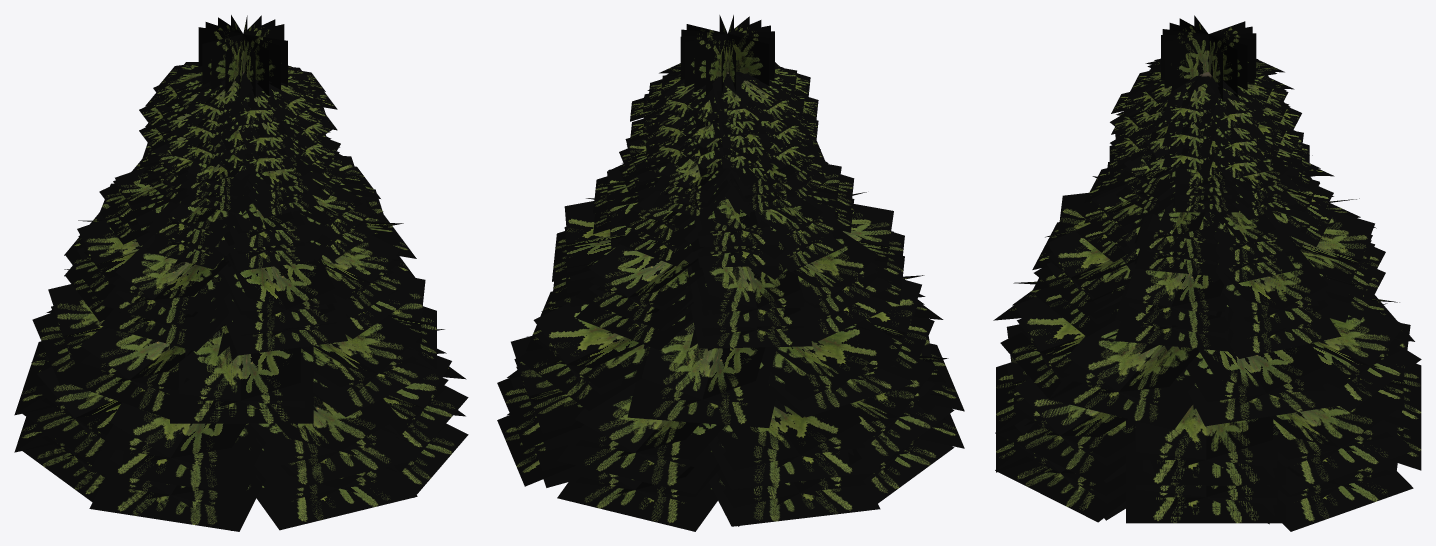
Rendered from pine_1.obj.
3 renders of one model, left to right at view 1: azimuth 30°, elevation 25°; view 2: azimuth 150°, elevation 25°; view 3: azimuth 270°, elevation 25°, orthographic.
Visible parts, largest first — view 1: cube; view 2: cube; view 3: cube.
Boxes of the visible parts, bbox=[...] form: cube: bbox=[14, 15, 468, 531]; cube: bbox=[497, 15, 964, 531]; cube: bbox=[993, 15, 1421, 531].
Bounding box in the file's own units: 6.09 × 6.56 × 5.83.
